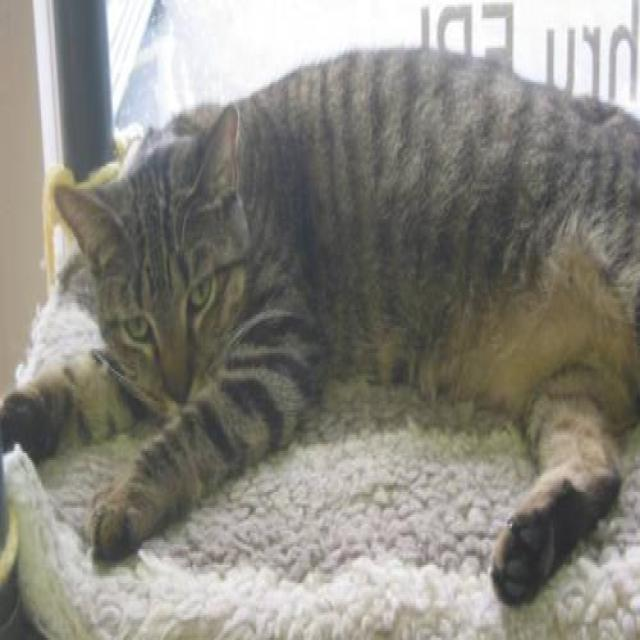fox: (0, 41, 639, 606)
